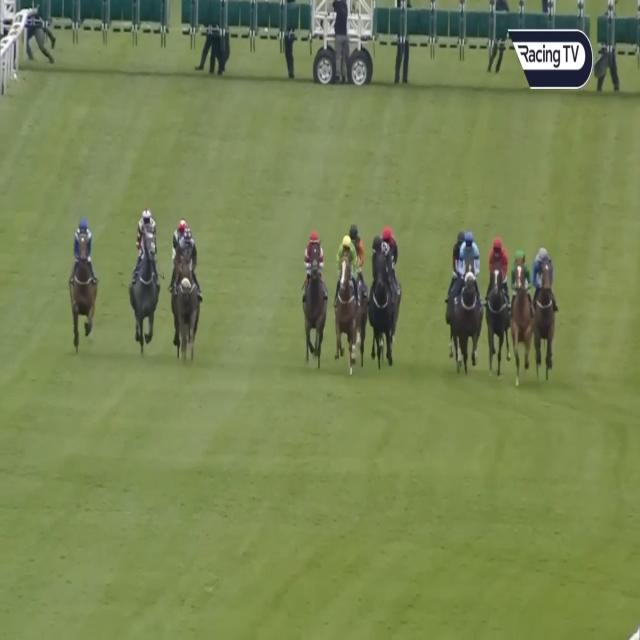horses-racing: (69, 213, 98, 346), (133, 206, 158, 354), (173, 228, 200, 364), (368, 233, 393, 368), (457, 232, 480, 370), (303, 231, 326, 367), (336, 237, 357, 371), (488, 238, 508, 368), (535, 246, 553, 378), (510, 248, 530, 365), (383, 227, 399, 289), (170, 215, 190, 262), (349, 223, 365, 274), (451, 228, 467, 275)
